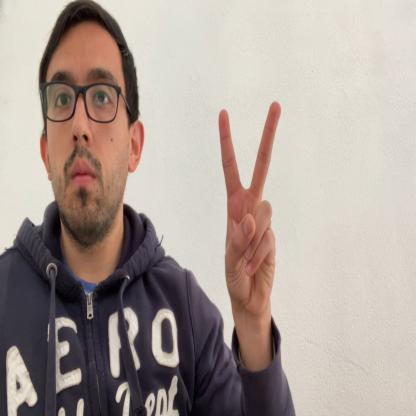V: (218, 101, 281, 307)
